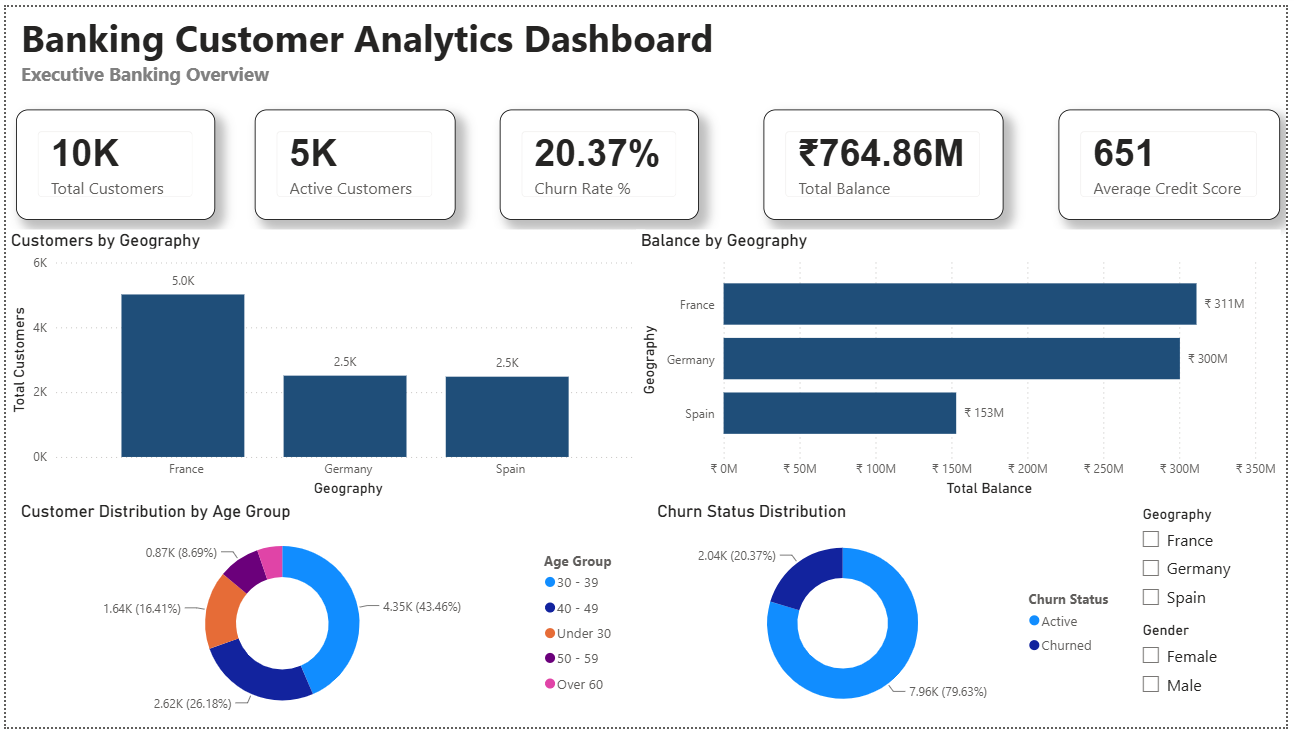

This screenshot's page, from the dashboard's own definition file:
{"tool":"powerbi","page":{"name":"Executive Banking Overview","canvas":[1280,720],"ordinal":0},"visuals":[{"type":"textbox","box":[9.8,0,1270.5,102.7],"z":0},{"type":"cardVisual","fields":{"Data":["Measures (2).Total Customers"]},"box":[9.8,102.7,199.3,110.1],"z":1},{"type":"cardVisual","fields":{"Data":["Measures (2).Average Credit Score"]},"box":[1052.9,102.7,221.3,110.1],"z":2},{"type":"cardVisual","fields":{"Data":["Measures (2).Total Balance"]},"box":[756.9,102.7,239.7,110.1],"z":3},{"type":"cardVisual","fields":{"Data":["Measures (2).Churn Rate %"]},"box":[494,102.7,199.3,110.1],"z":4},{"type":"cardVisual","fields":{"Data":["Measures (2).Active Customers"]},"box":[248.2,102.7,200.5,110.1],"z":5},{"type":"clusteredColumnChart","title":"Customers by Geography ","fields":{"Category":["Churn_Modelling.Geography"],"Y":["Measures (2).Total Customers"]},"box":[0,222.6,639.5,271.5],"z":6},{"type":"clusteredBarChart","title":"Balance by Geography ","fields":{"Category":["Churn_Modelling.Geography"],"Y":["Measures (2).Total Balance"]},"box":[629.8,222.6,644.4,271.5],"z":7},{"type":"donutChart","title":"Customer Distribution by Age Group","fields":{"Category":["Churn_Modelling.Age Group"],"Y":["Measures (2).Total Customers"]},"box":[9.8,494,620,226.2],"z":8},{"type":"donutChart","title":"Churn Status Distribution","fields":{"Category":["Churn_Modelling.Churn Status"],"Y":["Measures (2).Total Customers"]},"box":[645.7,494,478.1,226.2],"z":9},{"type":"slicer","fields":{"Values":["Churn_Modelling.Geography"]},"box":[1123.8,494,156.5,119.8],"z":10},{"type":"slicer","fields":{"Values":["Churn_Modelling.Gender"]},"box":[1123.8,610.2,123.5,110.1],"z":11}]}

Visuals, with their boxes in screenshot pixels (x1, y1, x2, y2), scaled from the page's 1280x720 canvas onto the 1294x734 screenshot:
textbox: 10/0/1293/105
cardVisual - Measures (2).Total Customers: 10/105/211/217
cardVisual - Measures (2).Average Credit Score: 1064/105/1288/217
cardVisual - Measures (2).Total Balance: 765/105/1008/217
cardVisual - Measures (2).Churn Rate %: 499/105/701/217
cardVisual - Measures (2).Active Customers: 251/105/454/217
"Customers by Geography " clusteredColumnChart: 0/227/646/504
"Balance by Geography " clusteredBarChart: 637/227/1288/504
"Customer Distribution by Age Group" donutChart: 10/504/637/733
"Churn Status Distribution" donutChart: 653/504/1136/733
slicer - Churn_Modelling.Geography: 1136/504/1293/626
slicer - Churn_Modelling.Gender: 1136/622/1261/733
